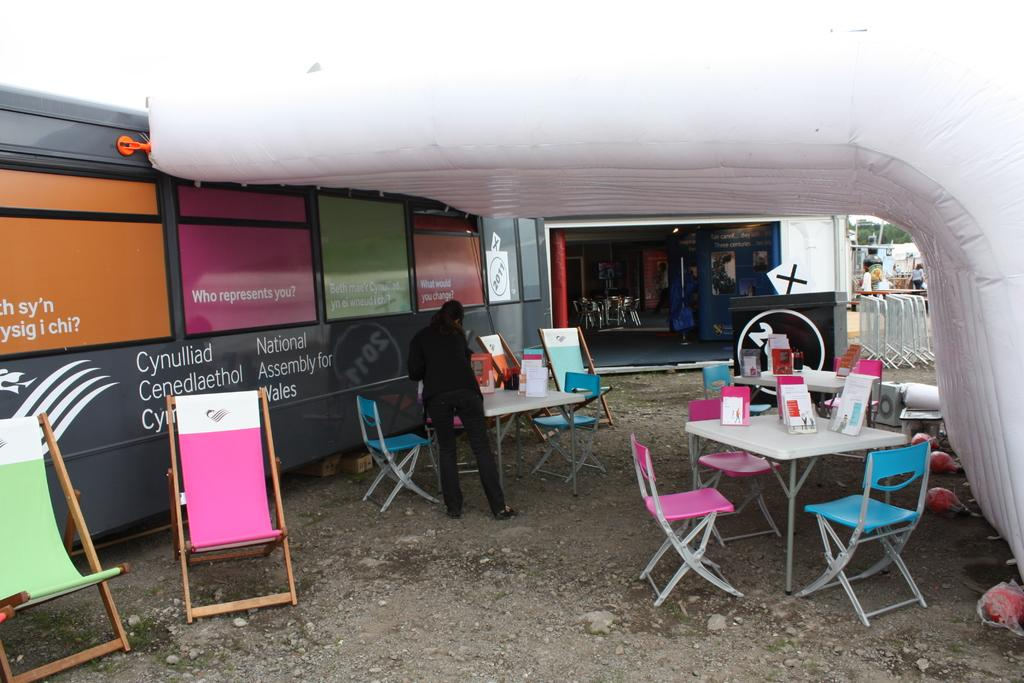Chair: (0, 411, 130, 682), (168, 383, 299, 621), (803, 440, 929, 623), (630, 437, 751, 600), (682, 399, 787, 542), (354, 397, 442, 506), (477, 336, 563, 442), (531, 372, 601, 486), (540, 327, 614, 422), (694, 366, 776, 413), (824, 359, 888, 416), (572, 295, 641, 328)
